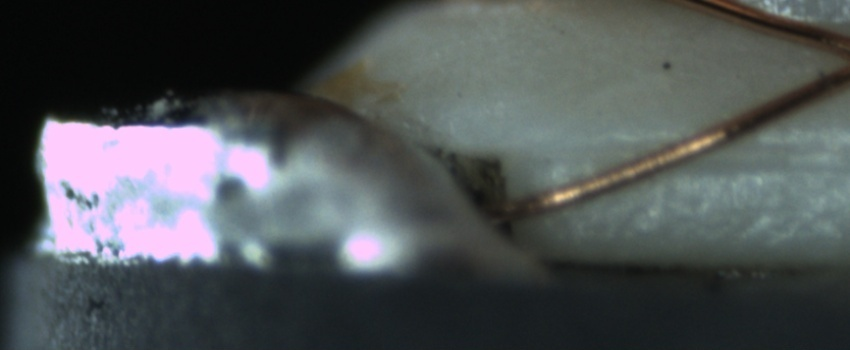DL: (553, 118, 845, 187)
